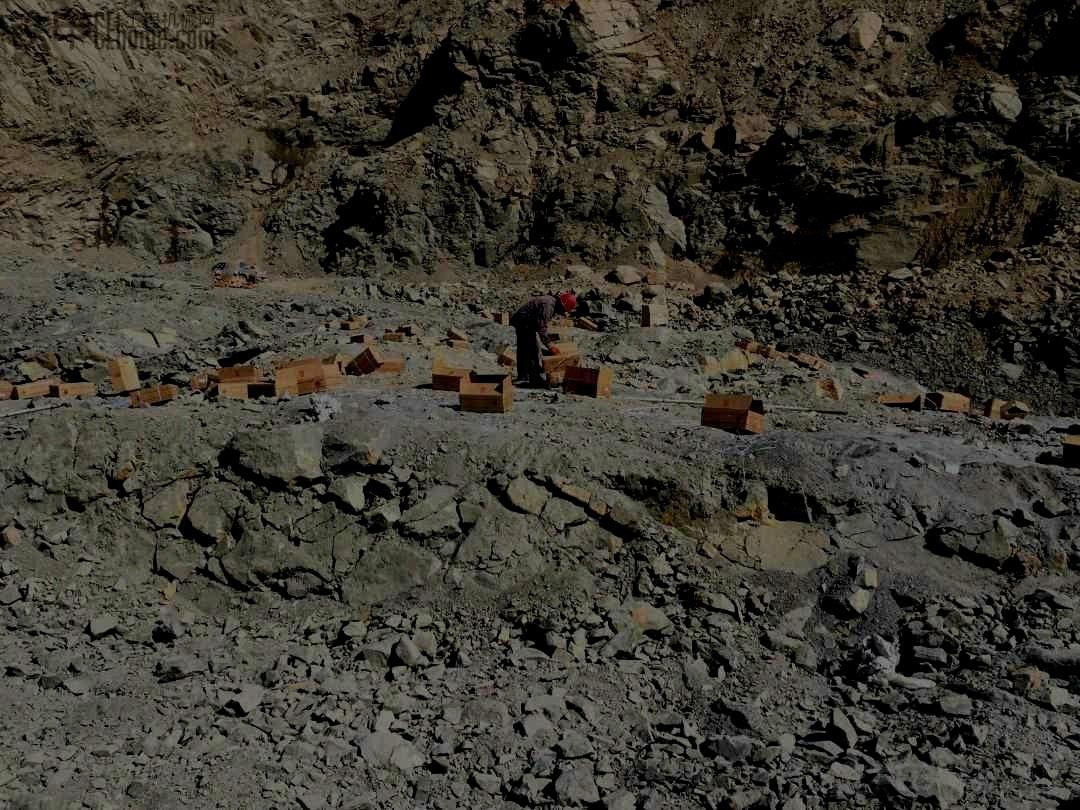helmet: (556, 293, 577, 316)
